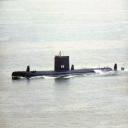submarine: (13, 57, 126, 79)
